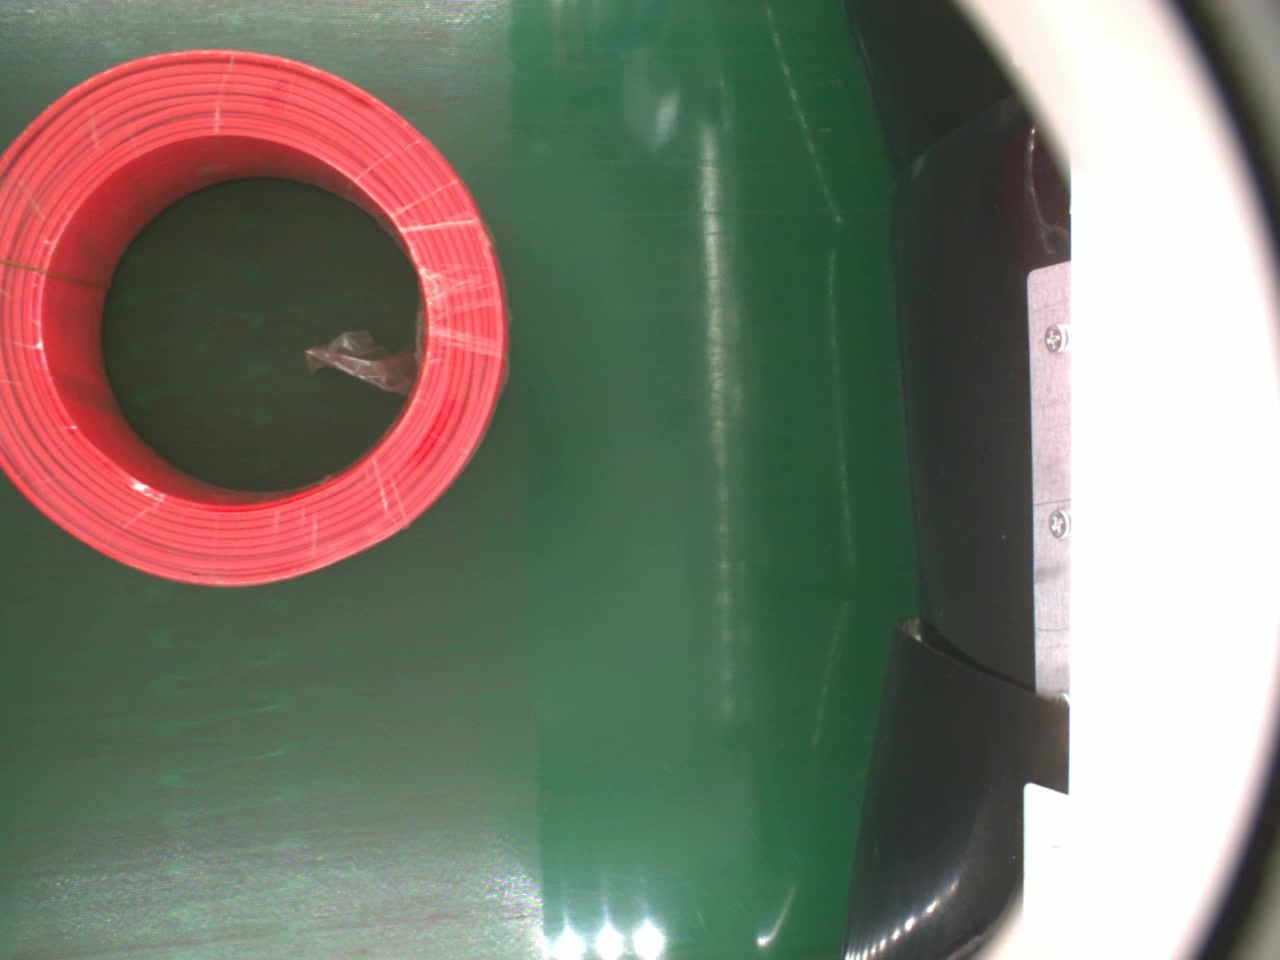red: (0, 47, 508, 590)
